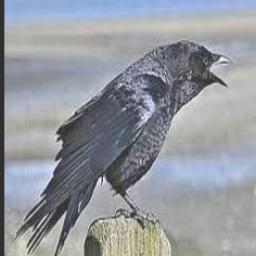Crow: (15, 39, 232, 256)
